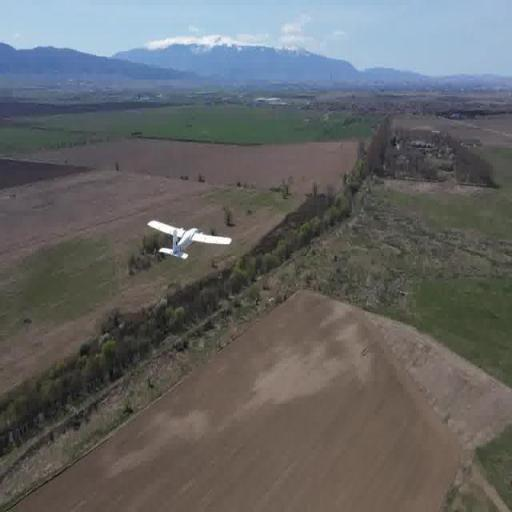uav: (144, 215, 234, 269)
